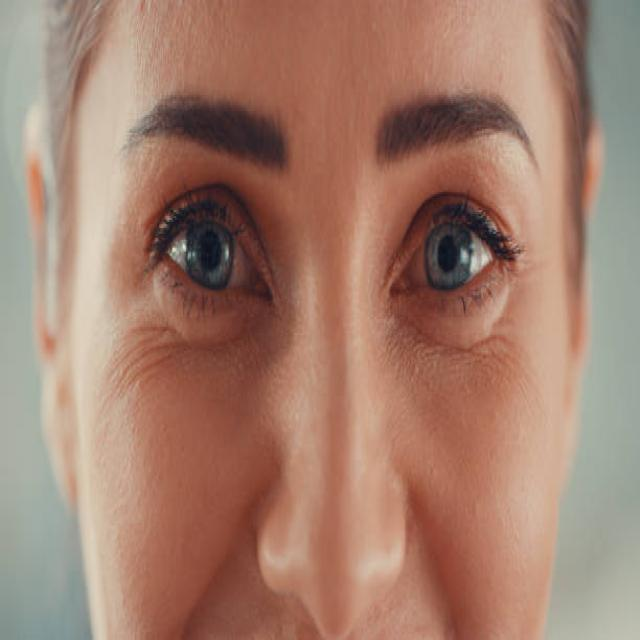Dry-Skin: (73, 304, 250, 631), (374, 317, 567, 585)
